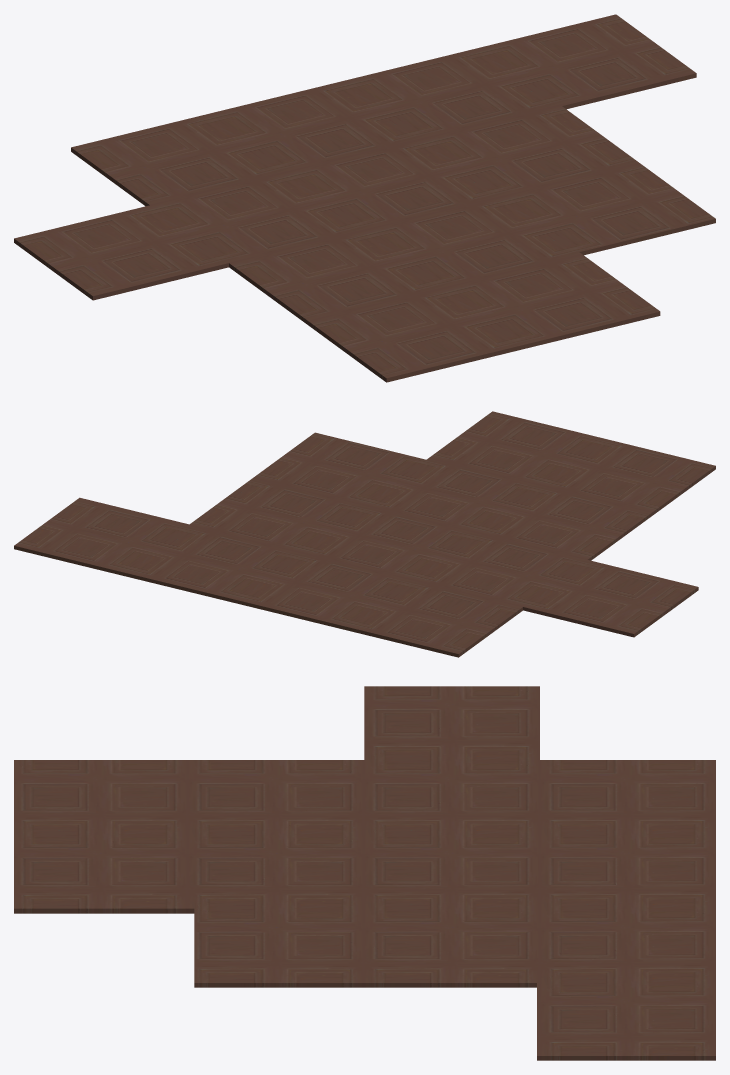
The model's file is Homeworld_Interior_Md_Room_K_Ceiling_01_Vo.fbx.
3 views of the same model, one above another, from view 1: azimuth 30°, elevation 25°; view 2: azimuth 150°, elevation 25°; view 3: azimuth 270°, elevation 25° (orthographic). The views are drawn at different scales.
Visible parts, largest first — view 1: Homeworld_Interior_Md_Room_K_Ceiling_01_Vo; view 2: Homeworld_Interior_Md_Room_K_Ceiling_01_Vo; view 3: Homeworld_Interior_Md_Room_K_Ceiling_01_Vo.
Part boxes in pixels (left/top/right/bottom): Homeworld_Interior_Md_Room_K_Ceiling_01_Vo: left=14, top=14, right=715, bottom=382; Homeworld_Interior_Md_Room_K_Ceiling_01_Vo: left=14, top=411, right=715, bottom=657; Homeworld_Interior_Md_Room_K_Ceiling_01_Vo: left=14, top=686, right=715, bottom=1060.
Bounding box in the file's own units: 24.99 × 0.15 × 20.05.
